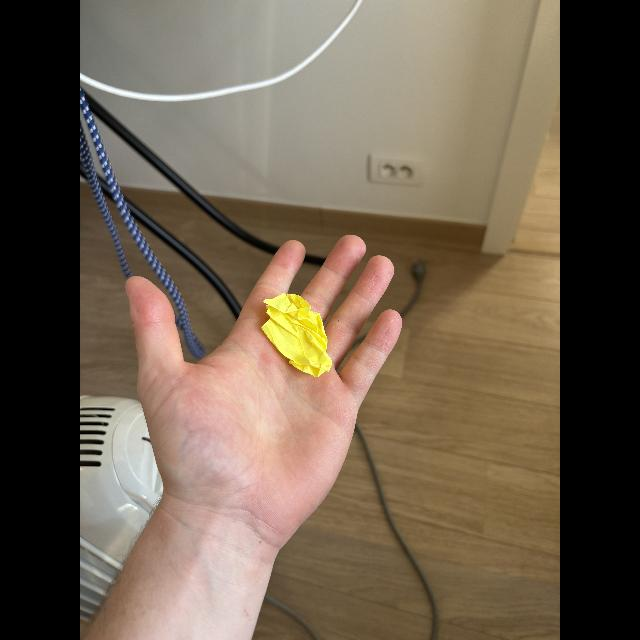Paper: (256, 287, 336, 385)
